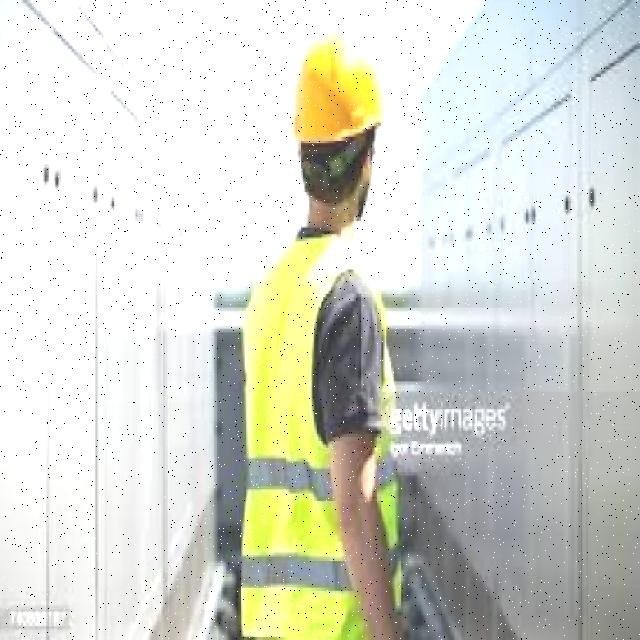Helmet: (293, 29, 384, 152)
Mask: (244, 218, 400, 640)
